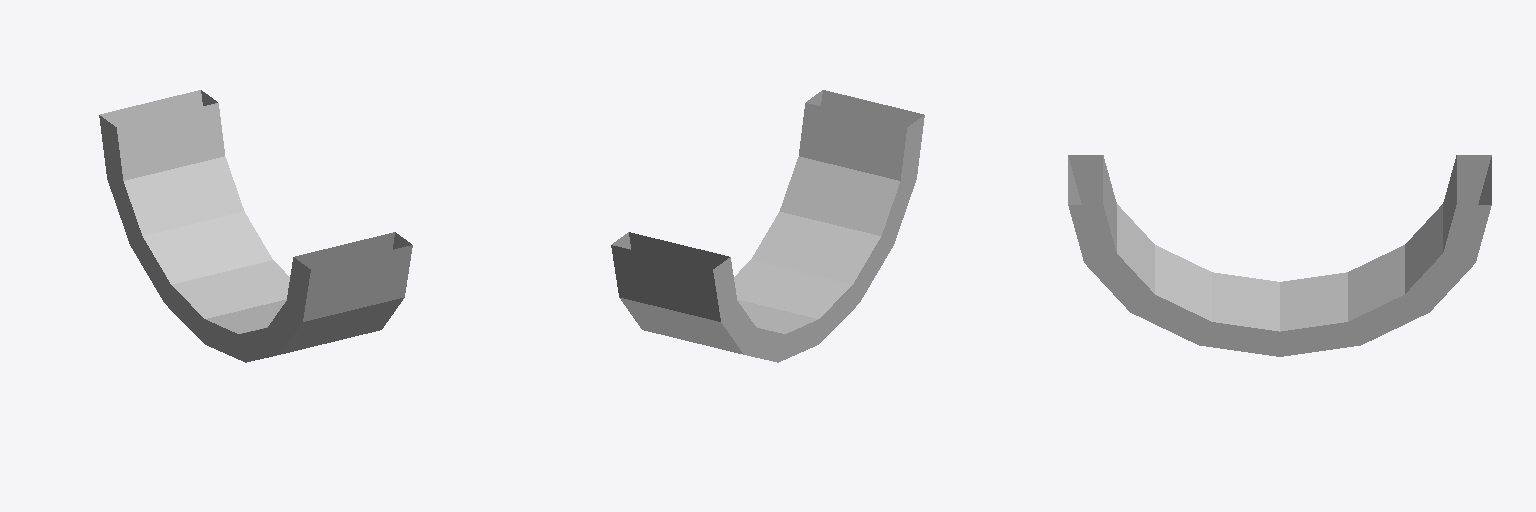
The model's file is wall_bottom.obj.
3 views of the same model, side by side, from view 1: azimuth 30°, elevation 25°; view 2: azimuth 150°, elevation 25°; view 3: azimuth 270°, elevation 25° (orthographic).
Parts seen in each view (by area): view 1: Cylinder; view 2: Cylinder; view 3: Cylinder.
Part boxes in pixels (bbox=[...]): Cylinder: bbox=[99, 90, 412, 362]; Cylinder: bbox=[611, 90, 924, 362]; Cylinder: bbox=[1068, 155, 1491, 356].
Size of the model in its own units: 6 by 8.57 by 21.6.